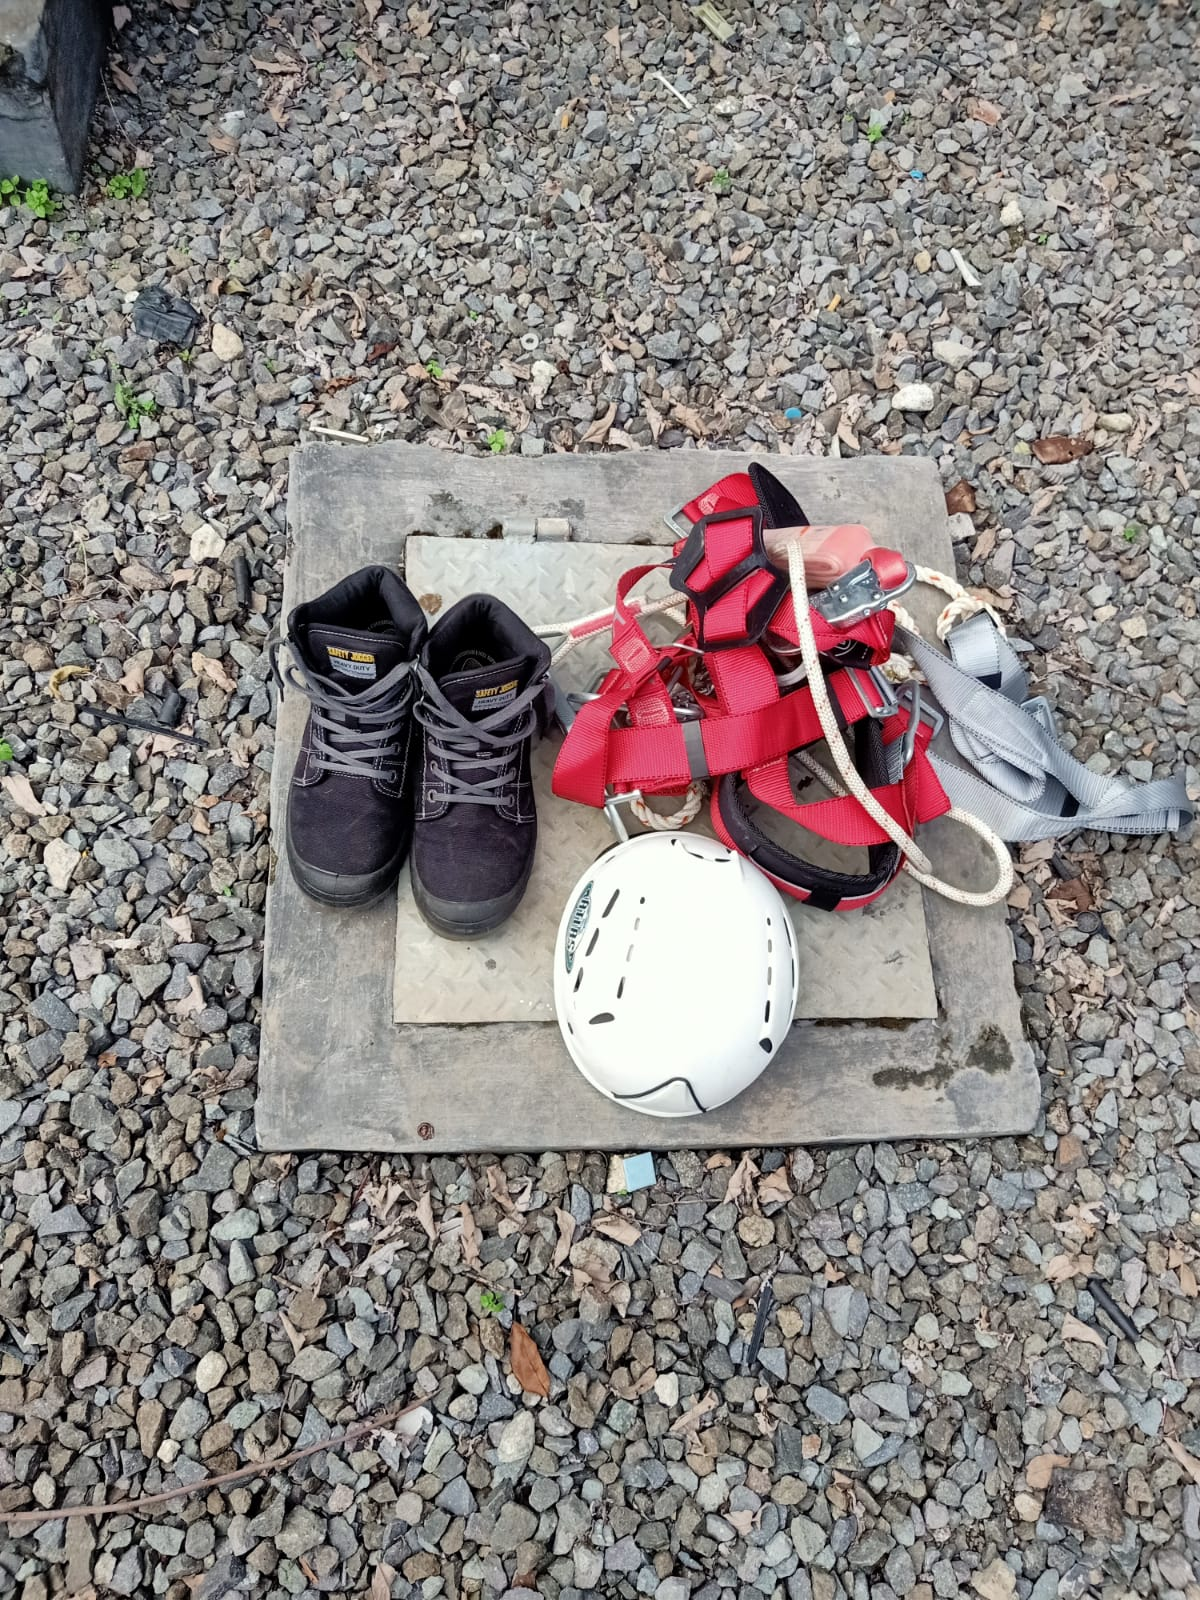SEPATU: (290, 598, 527, 929)
TAMBANG_SLING: (582, 566, 943, 828)
